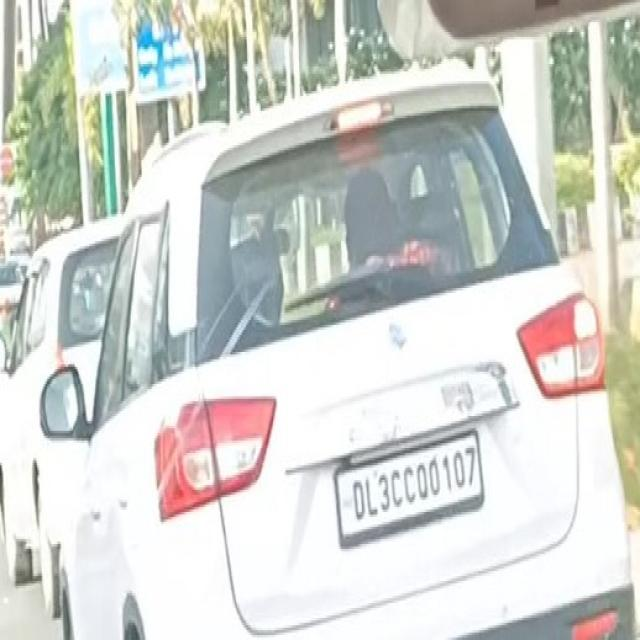license-plate: (334, 428, 480, 534)
